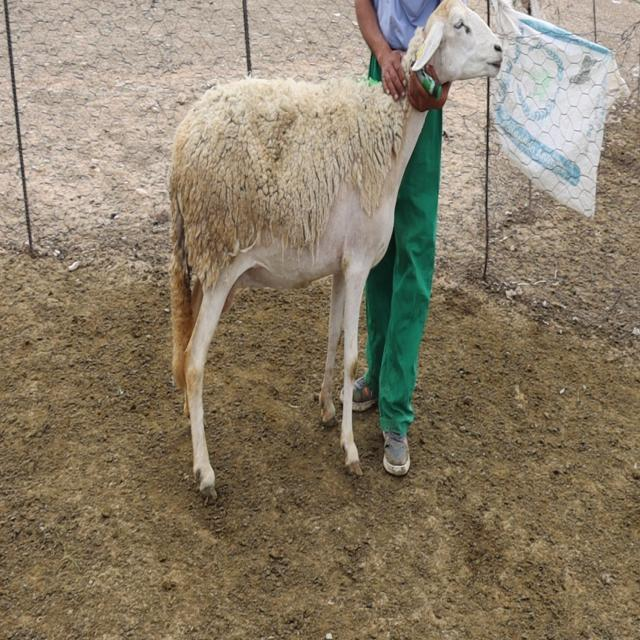Score_2: (168, 0, 502, 498)
